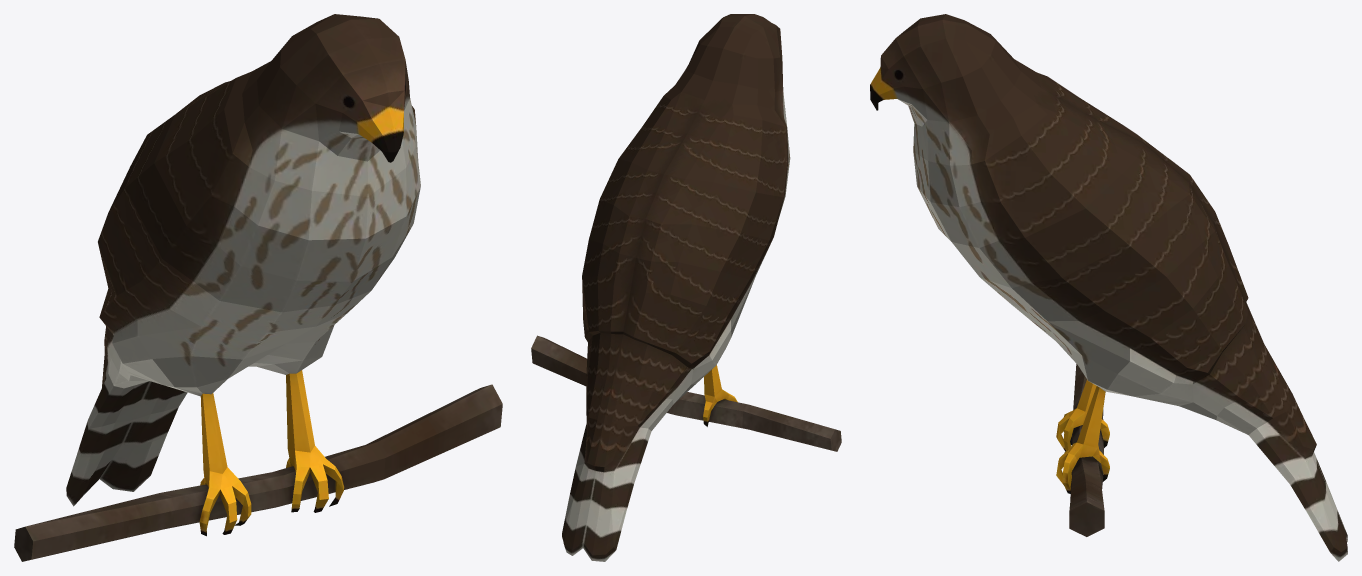
The model's file is 3auORoUPvs9.glb.
3 renders of one model, left to right at view 1: azimuth 30°, elevation 25°; view 2: azimuth 150°, elevation 25°; view 3: azimuth 270°, elevation 25°, orthographic. The views are drawn at different scales.
Parts seen in each view (by area): view 1: SharpShinnedHawk_Mesh; view 2: SharpShinnedHawk_Mesh; view 3: SharpShinnedHawk_Mesh.
Boxes of the visible parts, x1,y1,x2,y2 form: SharpShinnedHawk_Mesh: [14, 14, 502, 561]; SharpShinnedHawk_Mesh: [531, 14, 841, 561]; SharpShinnedHawk_Mesh: [870, 14, 1347, 561].
Bounding box in the file's own units: 0.7425 × 1 × 0.8168.
Materials: 1 (1 with a texture image).
